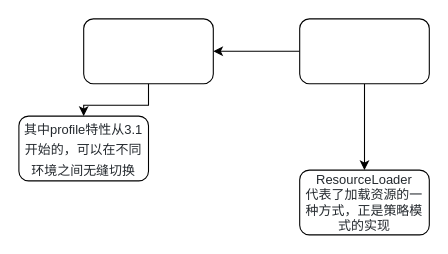
This 448x254 diagram has some shape labels left out. Each missing label, with the centre of its shape:
"Environmen接口，代表了当前应用所处的环境" goes at [148,51].
"spring" goes at [364,51].
